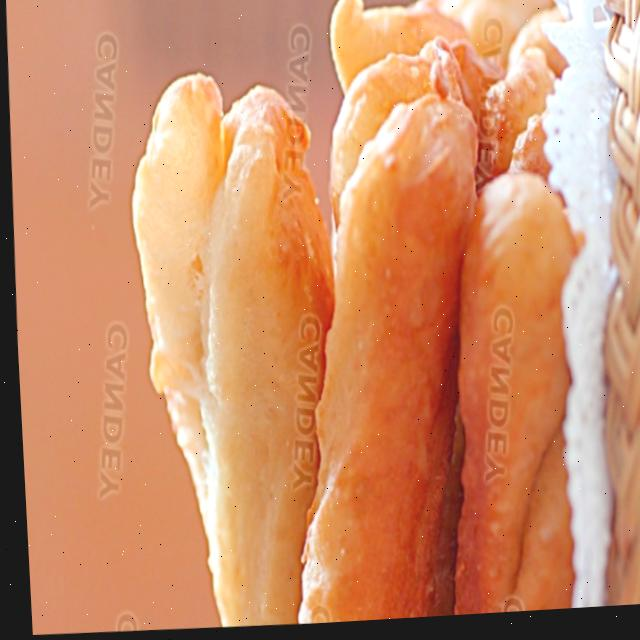炸货点心: (69, 0, 633, 637)
